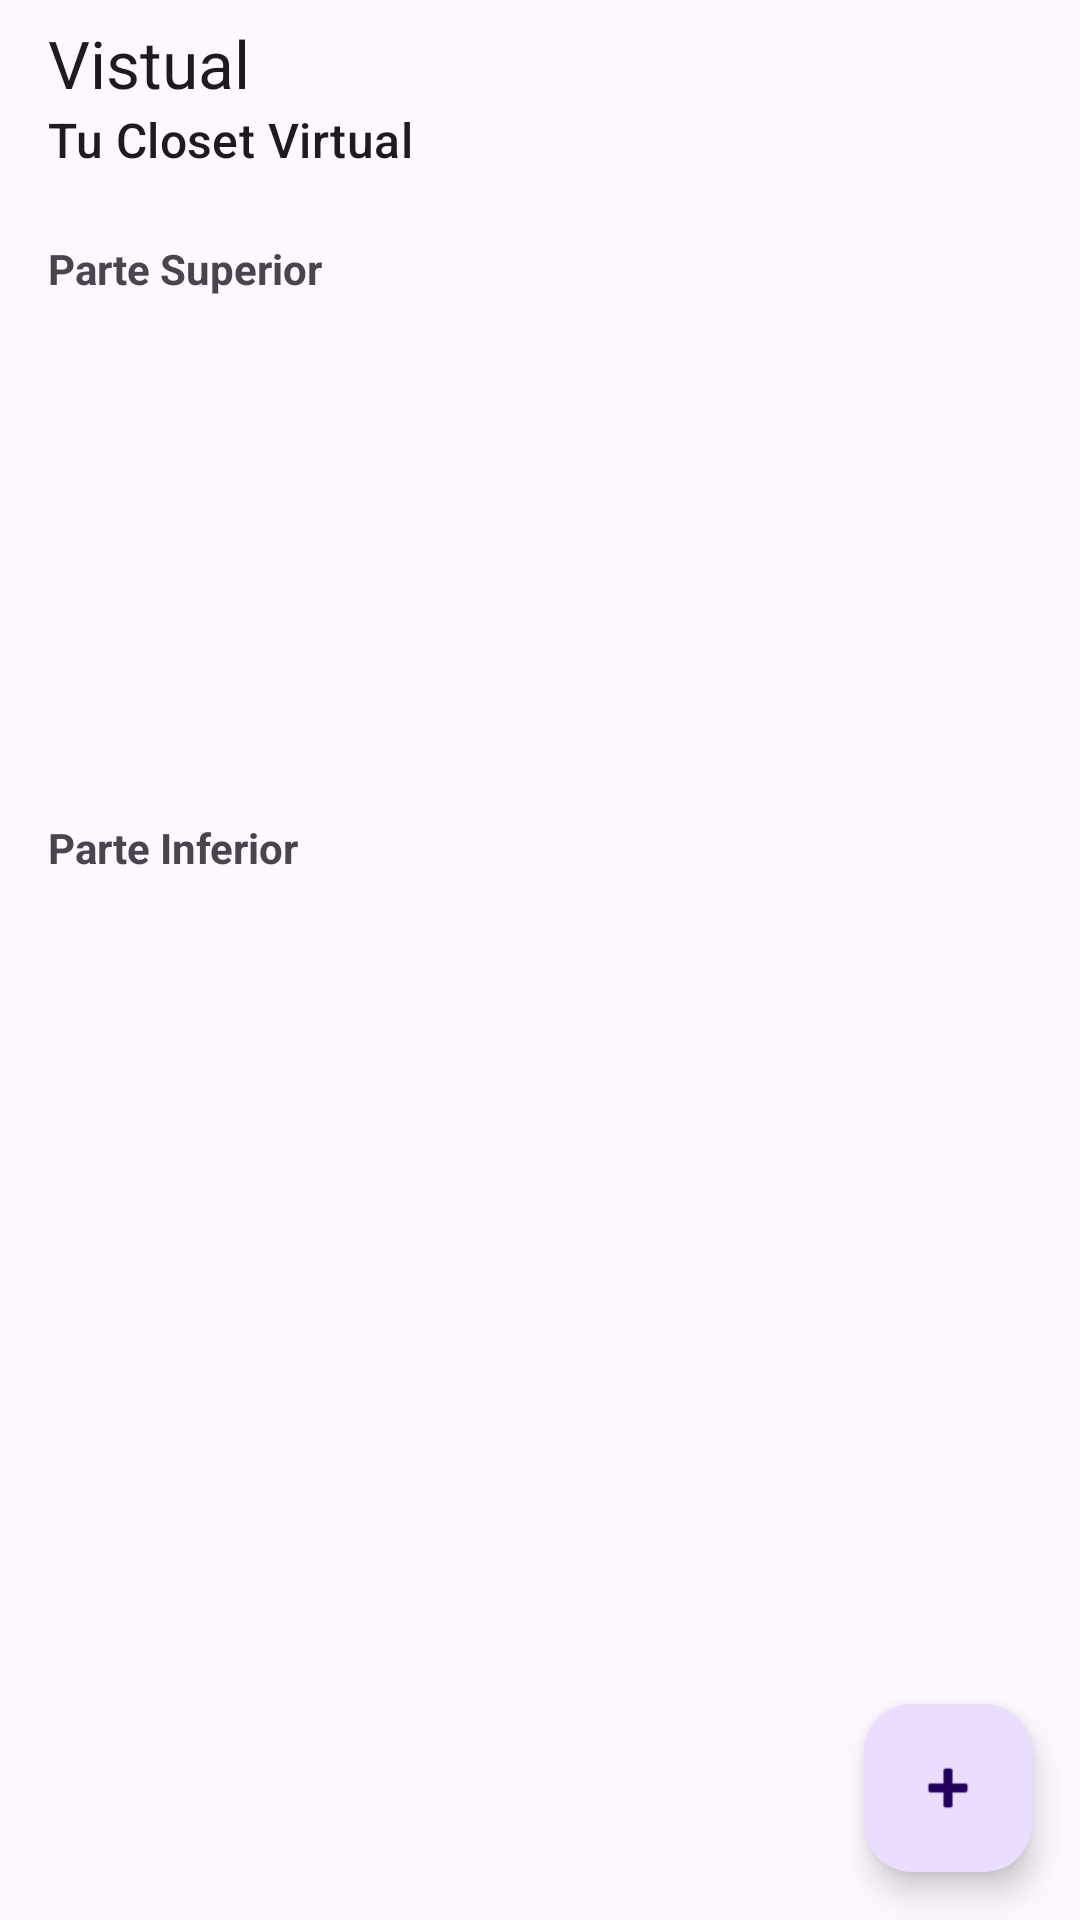

Named icons in this screenshot (1080 x 1920) and their centers, [x,y]:
Agregar nueva prenda: [948,1788]
